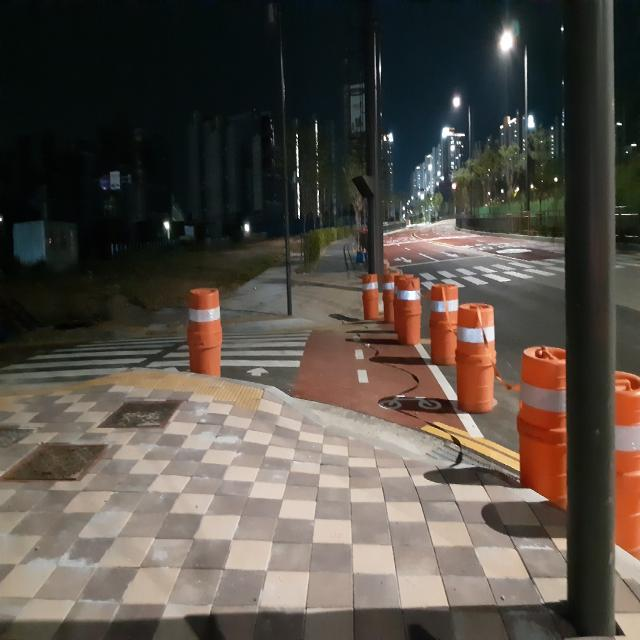횡단보도: (0, 329, 313, 380), (426, 269, 527, 281)
